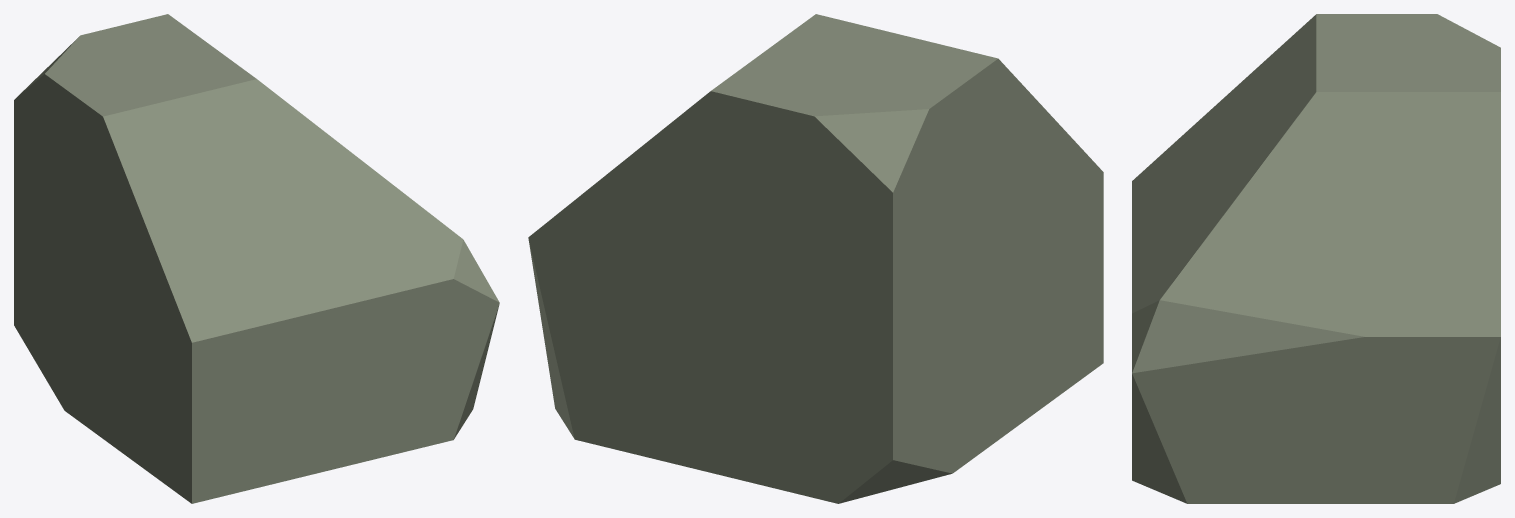
The model's file is pillar_corner_foot.fbx.
3 views of the same model, side by side, from view 1: azimuth 30°, elevation 25°; view 2: azimuth 150°, elevation 25°; view 3: azimuth 270°, elevation 25° (orthographic). The views are drawn at different scales.
Parts seen in each view (by area): view 1: pillar_corner_foot; view 2: pillar_corner_foot; view 3: pillar_corner_foot.
Boxes of the visible parts, x1,y1,x2,y2 form: pillar_corner_foot: (14, 14, 499, 503); pillar_corner_foot: (528, 14, 1103, 503); pillar_corner_foot: (1132, 14, 1500, 503).
Bounding box in the file's own units: 50 × 50 × 50.
